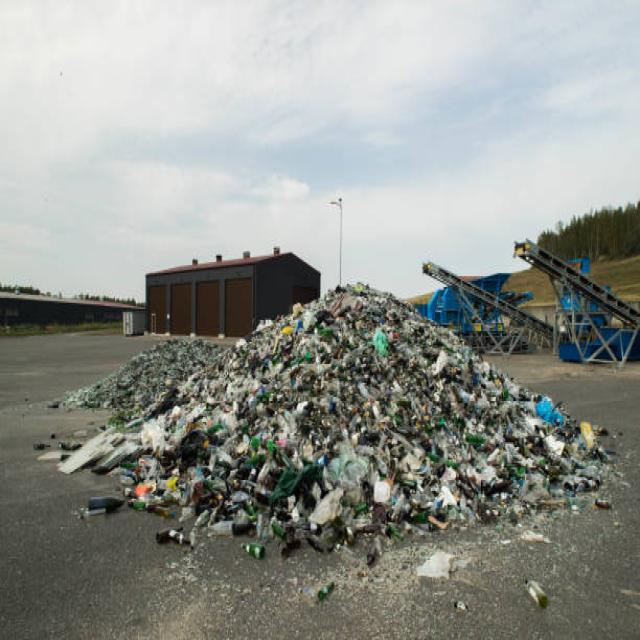glass: (128, 367, 404, 563)
